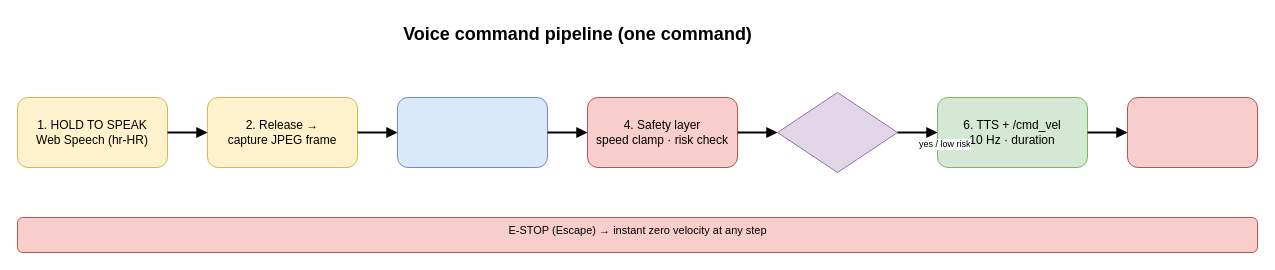
This 1275x270 diagram has some shape labels left out. The shapes that lost their labels are listed below. From the top down, each one's centre as x and y in pixels, then its label:
At (472,132): "3. Gemini API text + image → JSON".
At (837,132): "5. High risk? Modal confirm".
At (1192,132): "7. Auto-stop Twist = 0".
